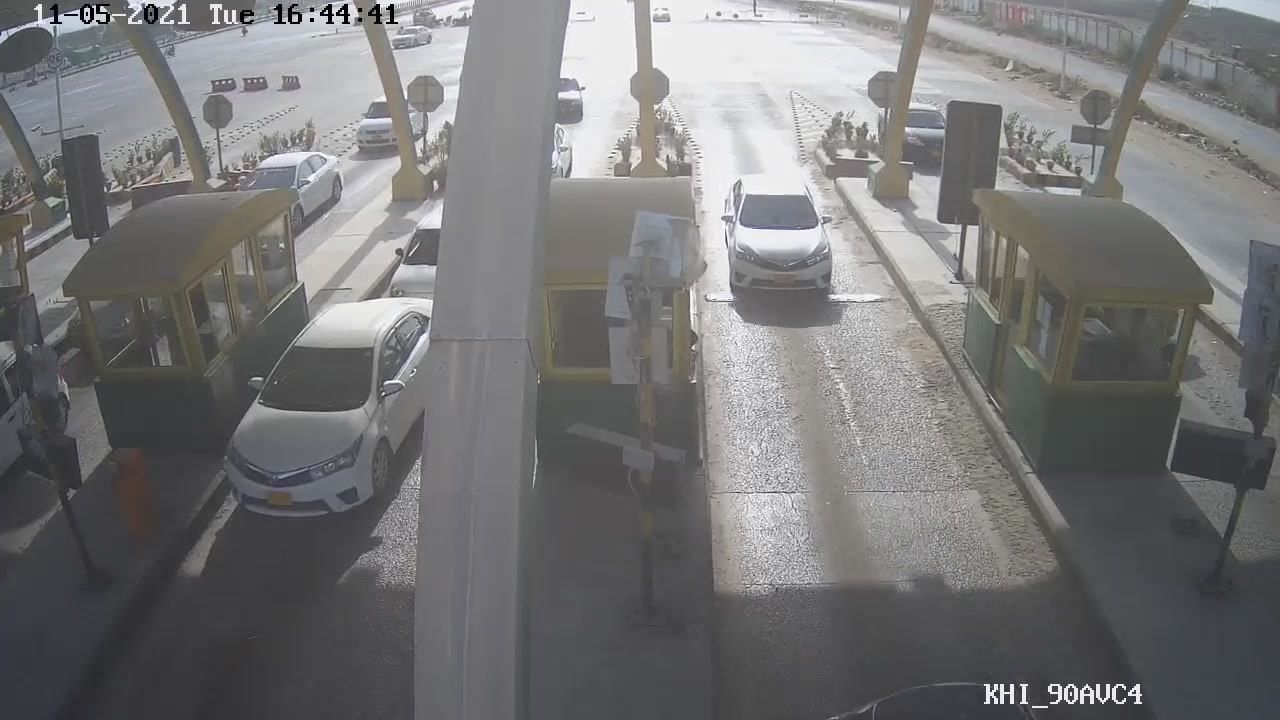F1: (717, 168, 847, 305)
